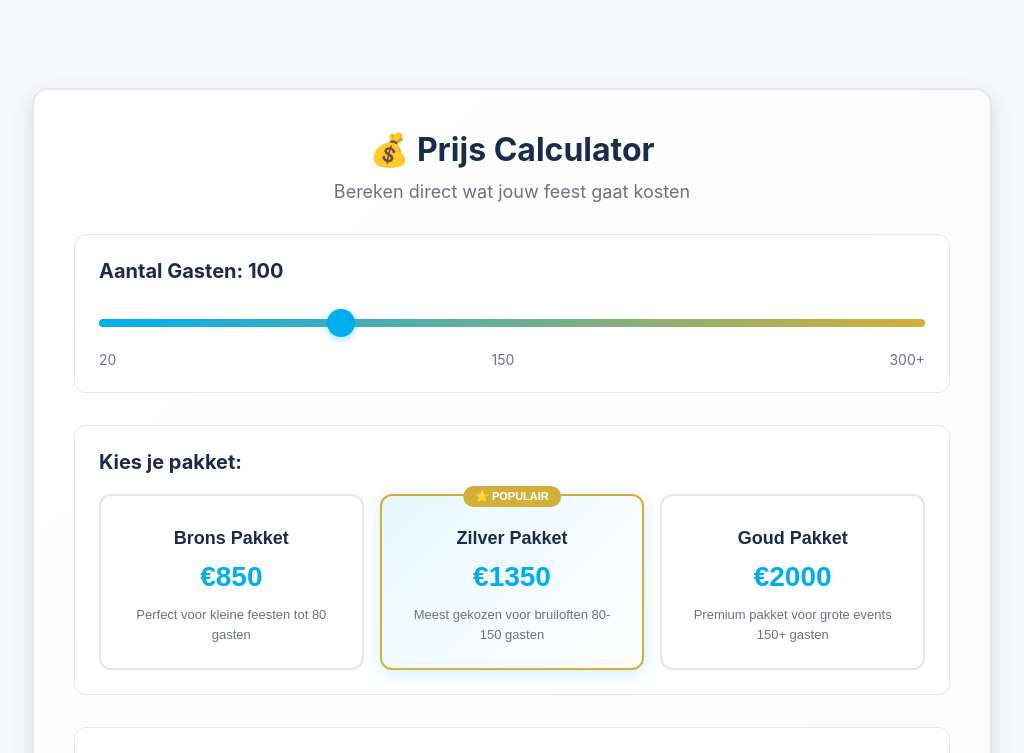
Test case: PriceCalculator › Guest count slider functionality › should display recommendations based on guest count
// For 60 guests (less than 80), should recommend Brons
Set the slider to "60" at (223, 323), box [99,319,925,327]
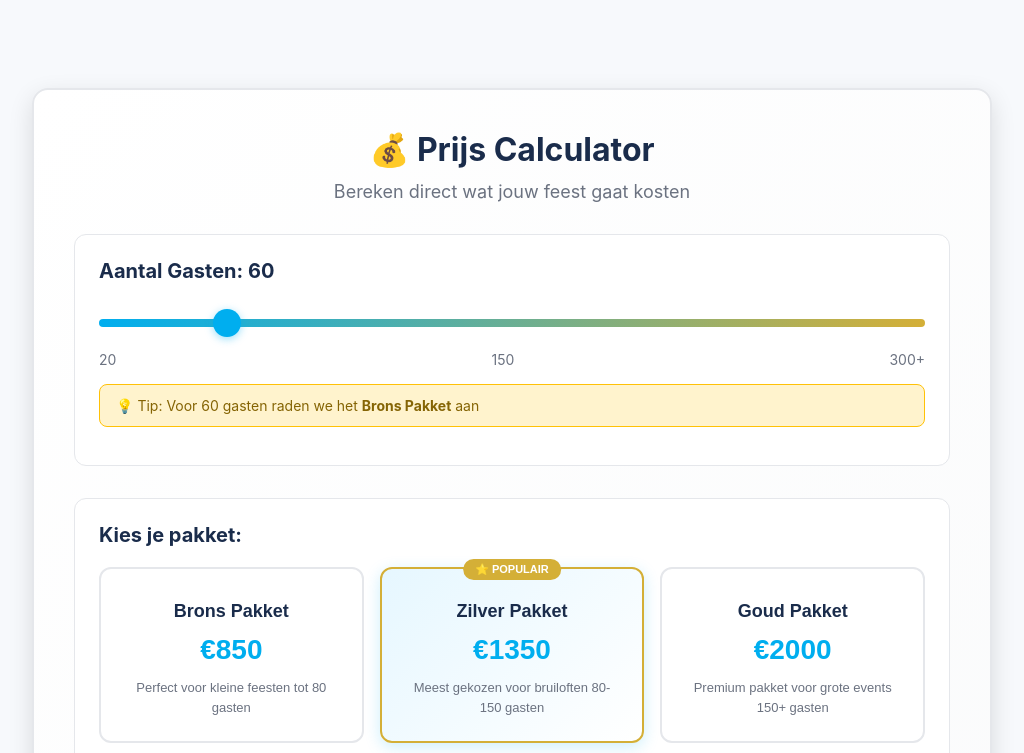
Check: the text "💡 Tip: Voor 60 gasten raden we het Brons Pakket aan" is shown, box [99,384,925,427]
// For 120 guests (80-150), should recommend Zilver (but already selected)
Set the slider to "120" at (396, 323), box [99,319,925,327]
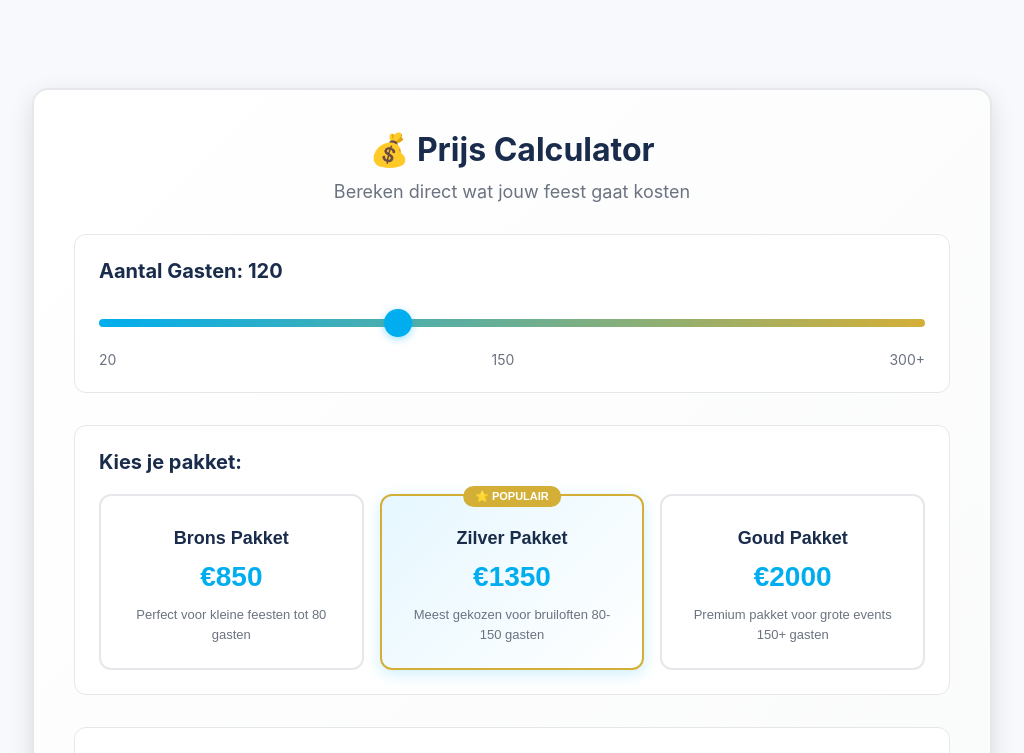
// For 200 guests (more than 150), should recommend Goud
Set the slider to "200" at (628, 323), box [99,319,925,327]
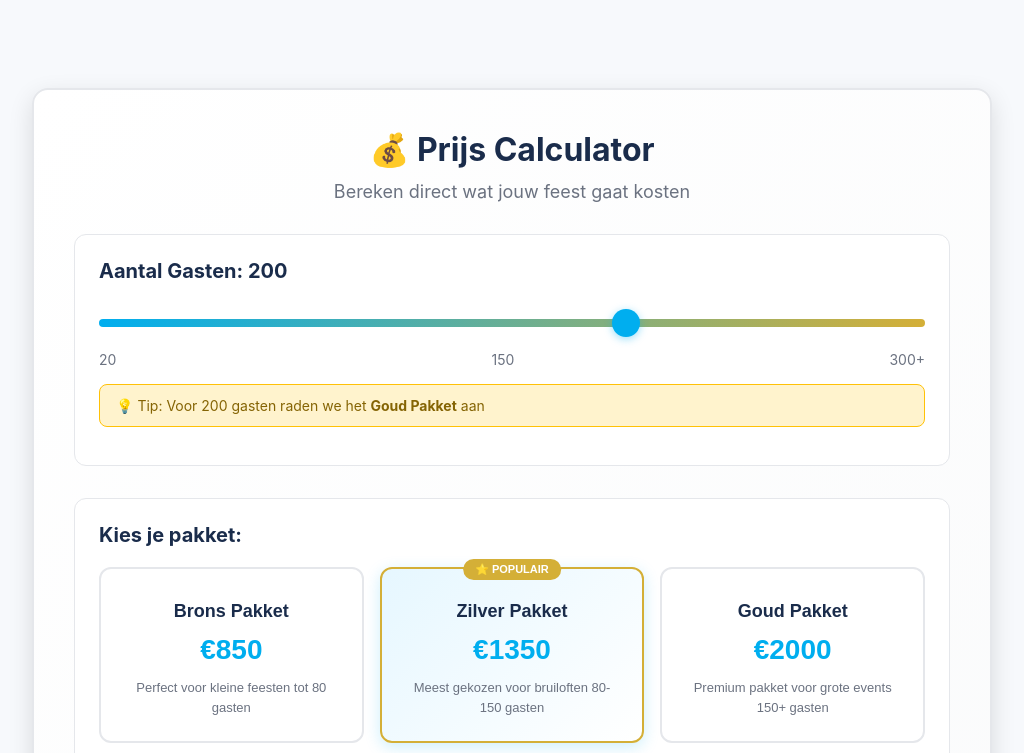
Check: the text "💡 Tip: Voor 200 gasten raden we het Goud Pakket aan" is shown, box [99,384,925,427]
